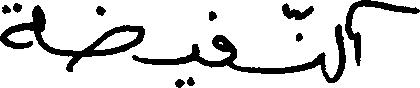X: (335, 0, 419, 86), (87, 1, 142, 67), (0, 0, 35, 53), (212, 6, 234, 74), (317, 47, 323, 80), (193, 39, 197, 87)
